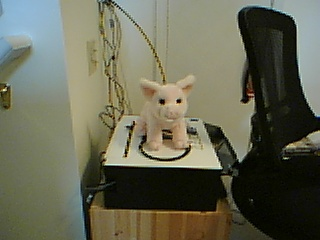piggy: (134, 73, 197, 151)
